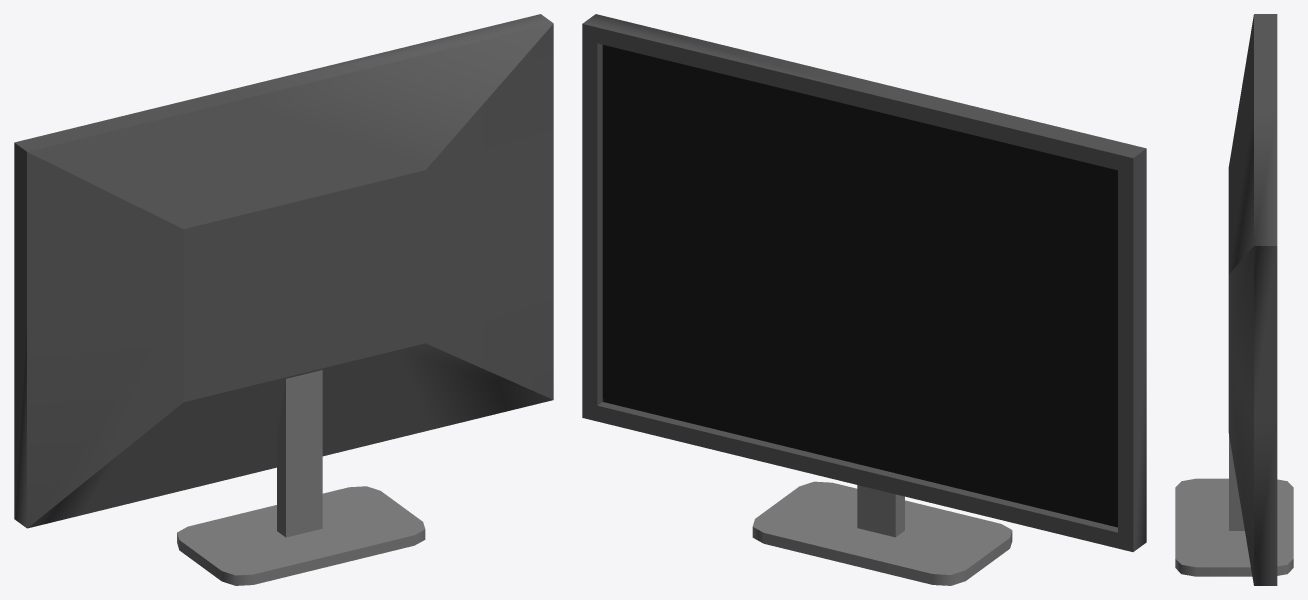
Rendered from DES_ComputerMonitor.fbx.
3 views of the same model, side by side, from view 1: azimuth 30°, elevation 25°; view 2: azimuth 150°, elevation 25°; view 3: azimuth 270°, elevation 25° (orthographic). The views are drawn at different scales.
Parts seen in each view (by area): view 1: ComputerMonitorBrokenPiece_6, ComputerMonitorBrokenPiece_3, ComputerMonitorBrokenPiece_1, ComputerMonitorBrokenPiece_2, ComputerMonitorBrokenPiece_4, ComputerMonitorBrokenPiece_5; view 2: ComputerMonitorBrokenPiece_6, ComputerMonitorBrokenPiece_1, ComputerMonitorBrokenPiece_3, ComputerMonitorBrokenPiece_2, ComputerMonitorBrokenPiece_4, ComputerMonitorBrokenPiece_5; view 3: ComputerMonitorBrokenPiece_1, ComputerMonitorBrokenPiece_4, ComputerMonitorBrokenPiece_2, ComputerMonitorBrokenPiece_3, ComputerMonitorBrokenPiece_5.
Part boxes in pixels (x1,y1,x2,y2): ComputerMonitorBrokenPiece_6: [14, 270, 433, 528]; ComputerMonitorBrokenPiece_3: [14, 90, 352, 315]; ComputerMonitorBrokenPiece_1: [230, 14, 553, 269]; ComputerMonitorBrokenPiece_2: [352, 216, 553, 429]; ComputerMonitorBrokenPiece_4: [177, 486, 425, 585]; ComputerMonitorBrokenPiece_5: [277, 370, 322, 537]; ComputerMonitorBrokenPiece_6: [709, 263, 1146, 551]; ComputerMonitorBrokenPiece_1: [582, 14, 918, 262]; ComputerMonitorBrokenPiece_3: [818, 93, 1146, 325]; ComputerMonitorBrokenPiece_2: [582, 222, 817, 448]; ComputerMonitorBrokenPiece_4: [752, 481, 1012, 585]; ComputerMonitorBrokenPiece_5: [857, 485, 904, 537]; ComputerMonitorBrokenPiece_1: [1228, 109, 1277, 419]; ComputerMonitorBrokenPiece_4: [1175, 478, 1293, 576]; ComputerMonitorBrokenPiece_2: [1228, 354, 1277, 585]; ComputerMonitorBrokenPiece_3: [1228, 14, 1277, 223]; ComputerMonitorBrokenPiece_5: [1229, 435, 1244, 530].
Size of the model in its own units: 79.95 by 64.67 by 17.24.
